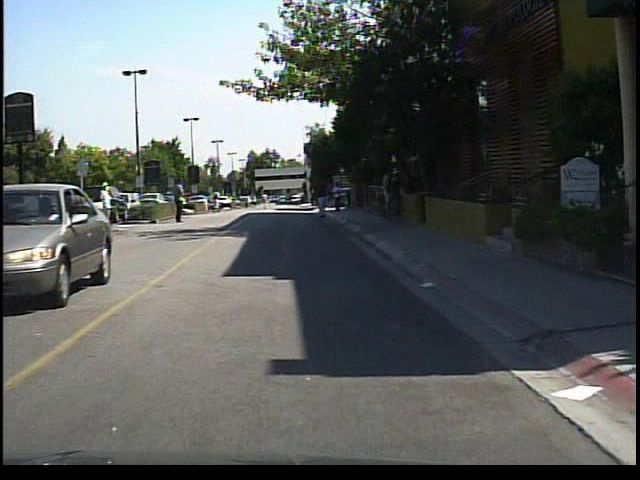person: (379, 159, 404, 227), (313, 167, 339, 221), (168, 174, 191, 225), (96, 176, 119, 227), (64, 181, 84, 231), (331, 176, 347, 215), (210, 186, 226, 215), (259, 189, 275, 212), (407, 164, 408, 216)
